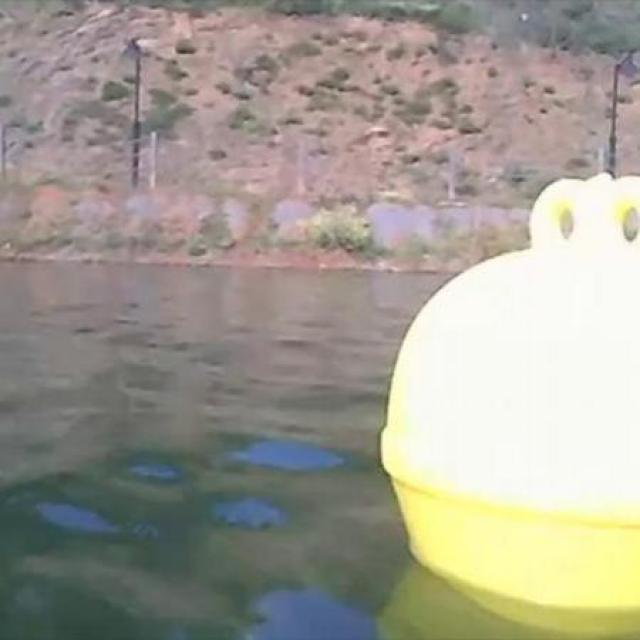buoy: (378, 173, 640, 615)
